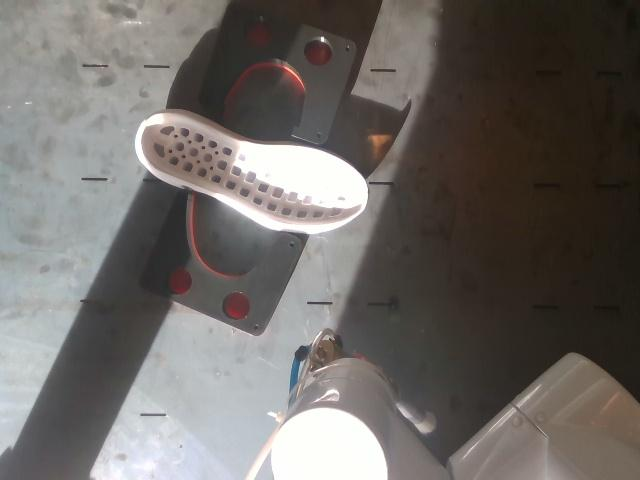shoes: (141, 114, 368, 224)
